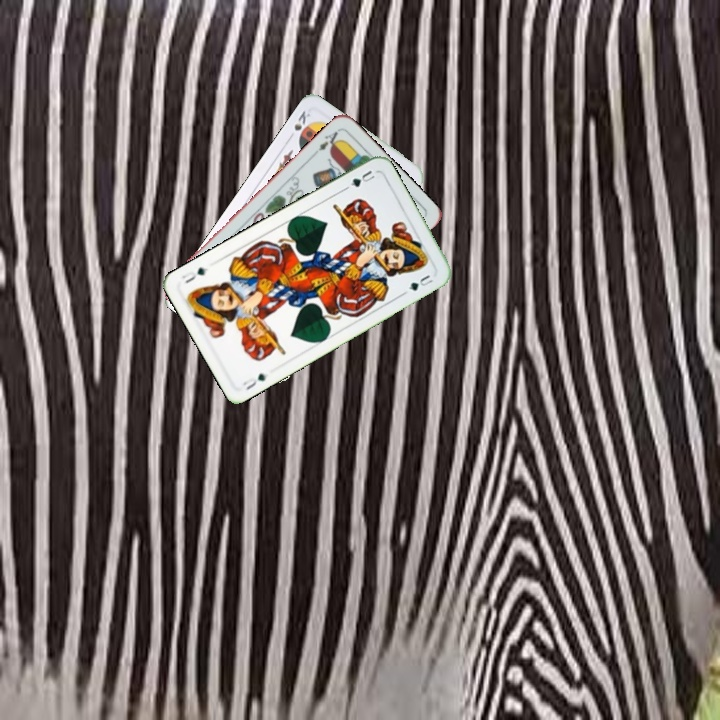EA: (309, 125, 343, 158)
GU: (239, 369, 271, 393), (347, 166, 377, 190)
SK: (284, 106, 313, 142)
